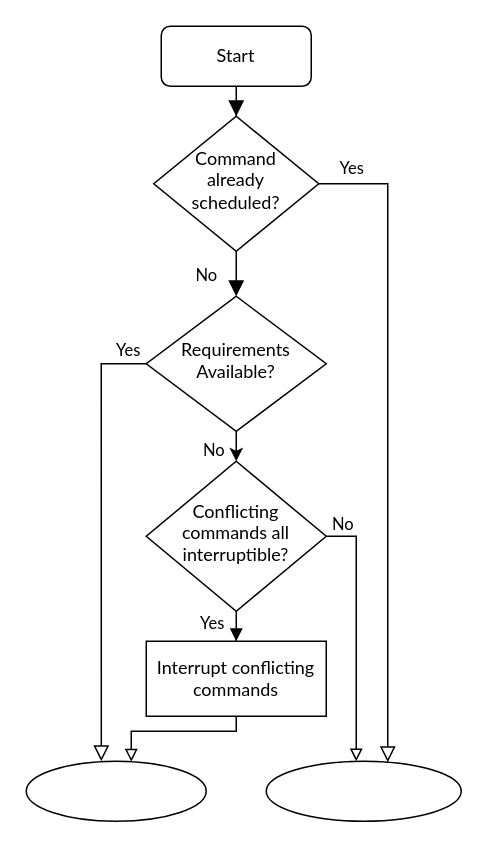
Some shapes in this 488 by 848 pixel diagram are drawn without their labels. Here are the shapes that lost their labels. From the top down, the centre of each, then its label:
(115,790): Run Command
(363,790): Do nothing
